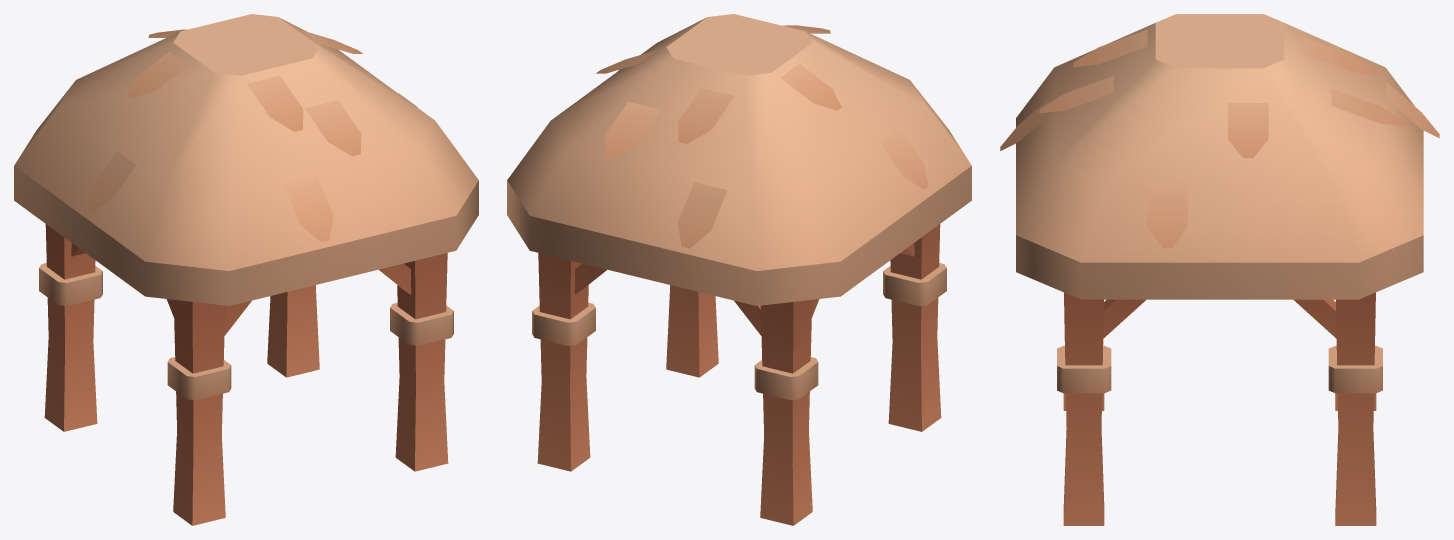
The model's file is structure-roof.glb.
3 views of the same model, side by side, from view 1: azimuth 30°, elevation 25°; view 2: azimuth 150°, elevation 25°; view 3: azimuth 270°, elevation 25° (orthographic). The views are drawn at different scales.
Parts seen in each view (by area): view 1: structure-roof; view 2: structure-roof; view 3: structure-roof.
Part boxes in pixels (x1,y1,x2,y2): structure-roof: [14, 14, 478, 525]; structure-roof: [507, 14, 971, 525]; structure-roof: [1000, 14, 1439, 525].
Bounding box in the file's own units: 3.09 × 3.4 × 3.23.
1 material, 1 textured.
